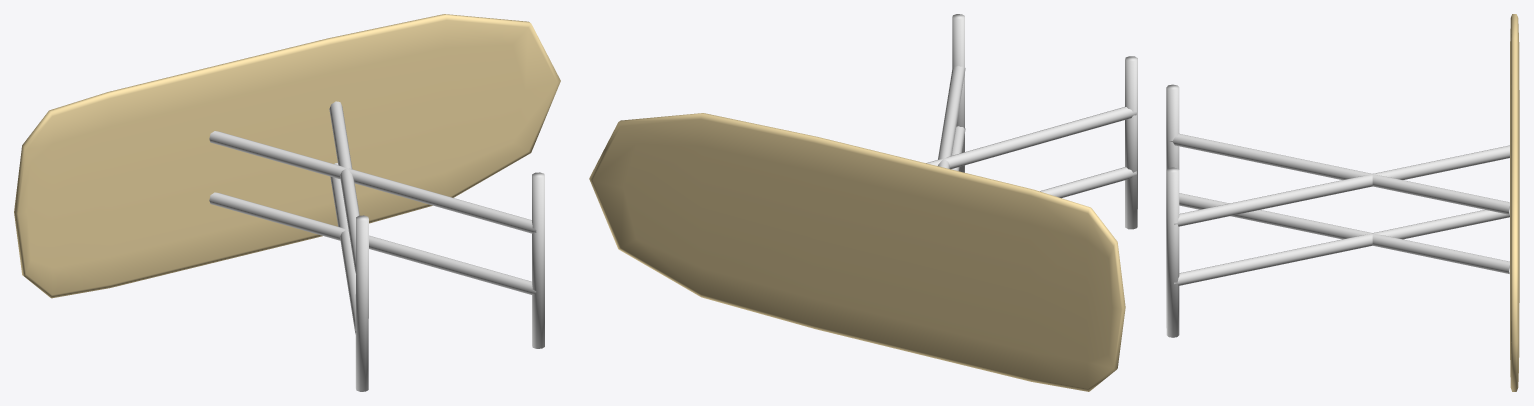
The picture shows the model from 3 angles, left to right: view 1: azimuth 30°, elevation 25°; view 2: azimuth 150°, elevation 25°; view 3: azimuth 270°, elevation 25°; orthographic projection. The views are drawn at different scales.
Parts seen in each view (by area): view 1: Circle; view 2: Circle; view 3: Circle.
Boxes of the visible parts, x1,y1,x2,y2 form: Circle: (14, 14, 560, 391); Circle: (589, 14, 1137, 391); Circle: (1166, 14, 1519, 391).
Bounding box in the file's own units: 117 × 40 × 68.34.
